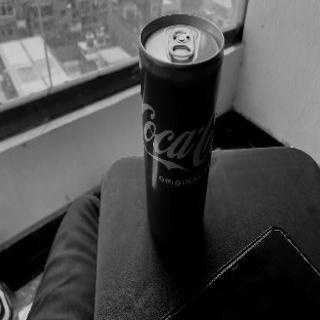alumunium_can: (138, 13, 224, 250)
